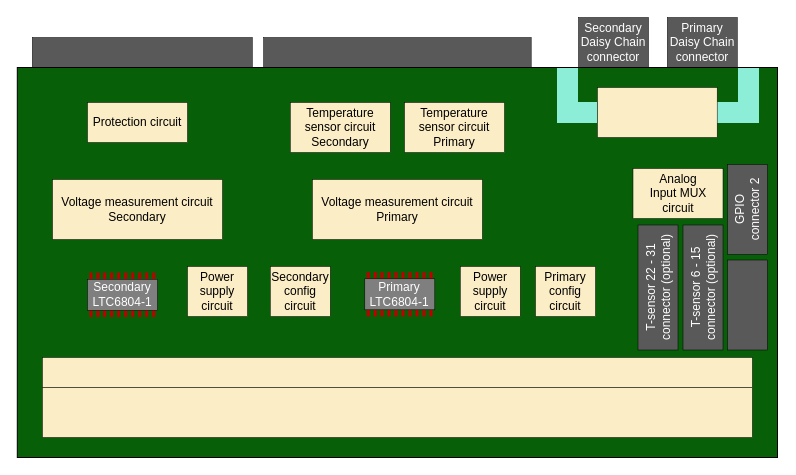
Image size: 796x475. Some labels were removed from this diagram. Each missing label, with the centre of its shape:
Balancing Feedback circuit Secondary: the point at 397,372
Battery cell connector (16 pin): the point at 142,52
Communication circuit: the point at 657,112
GPIO connector 1: the point at 747,304
Passive Balancing circuit Primary: the point at 397,412
Temperature sensor connector (24 pin): the point at 397,52
